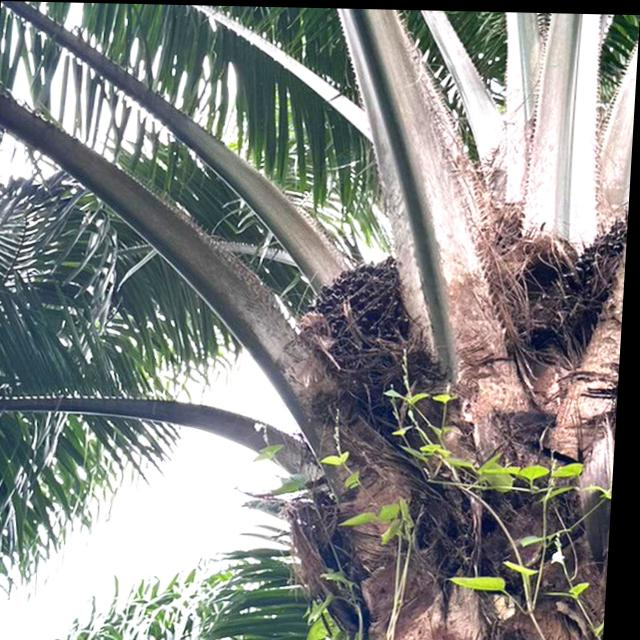ripe: (301, 247, 406, 348)
